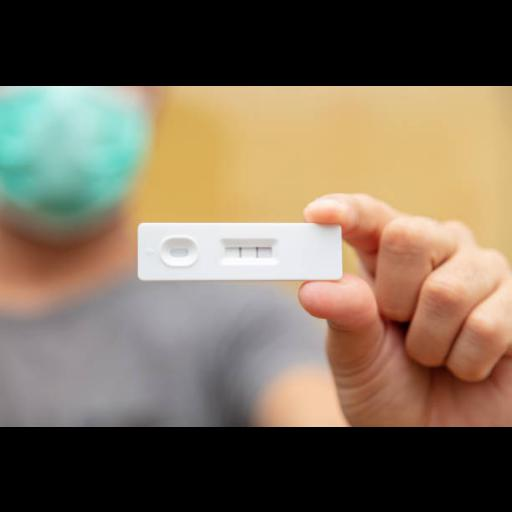Pos: (138, 221, 342, 277)
